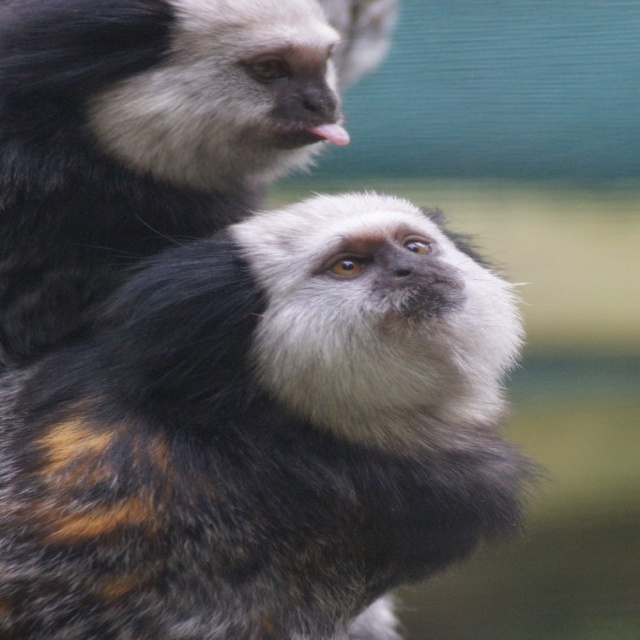Monkey: (0, 188, 561, 640), (0, 0, 398, 372)
